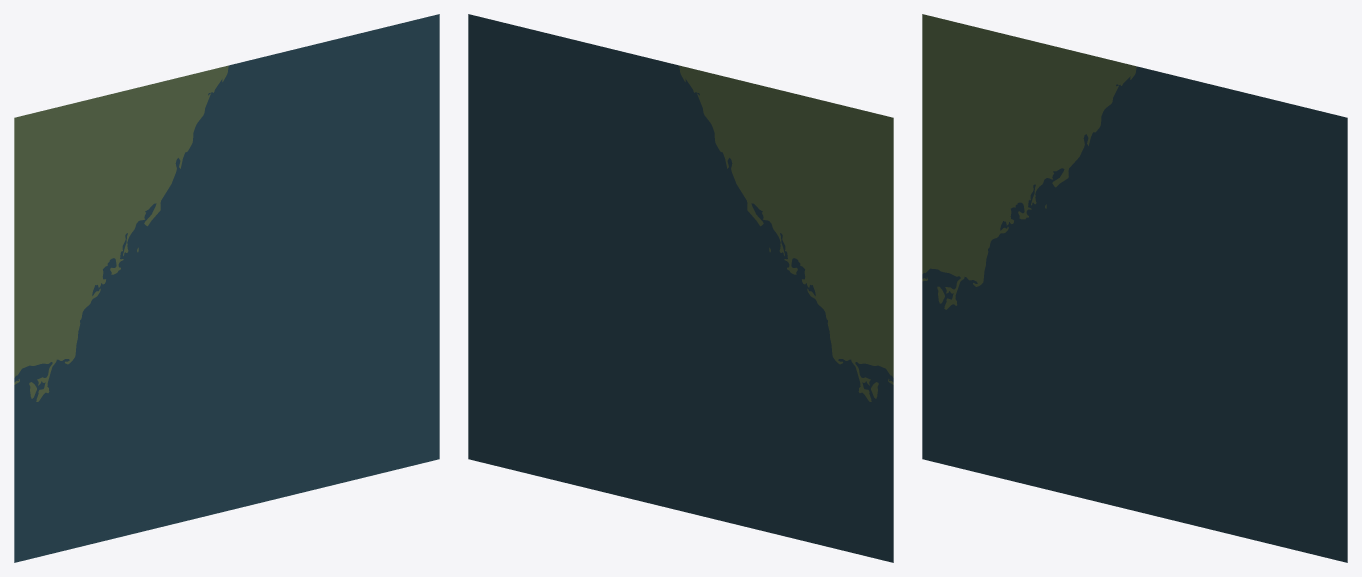
The model's file is shape_102_Coast_02.glb.
3 renders of one model, left to right at view 1: azimuth 30°, elevation 25°; view 2: azimuth 150°, elevation 25°; view 3: azimuth 330°, elevation 25°, orthographic.
Bounding box in the file's own units: 4096 × 4096 × 0.
